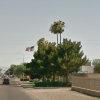Palm tree: (45, 12, 99, 85)
